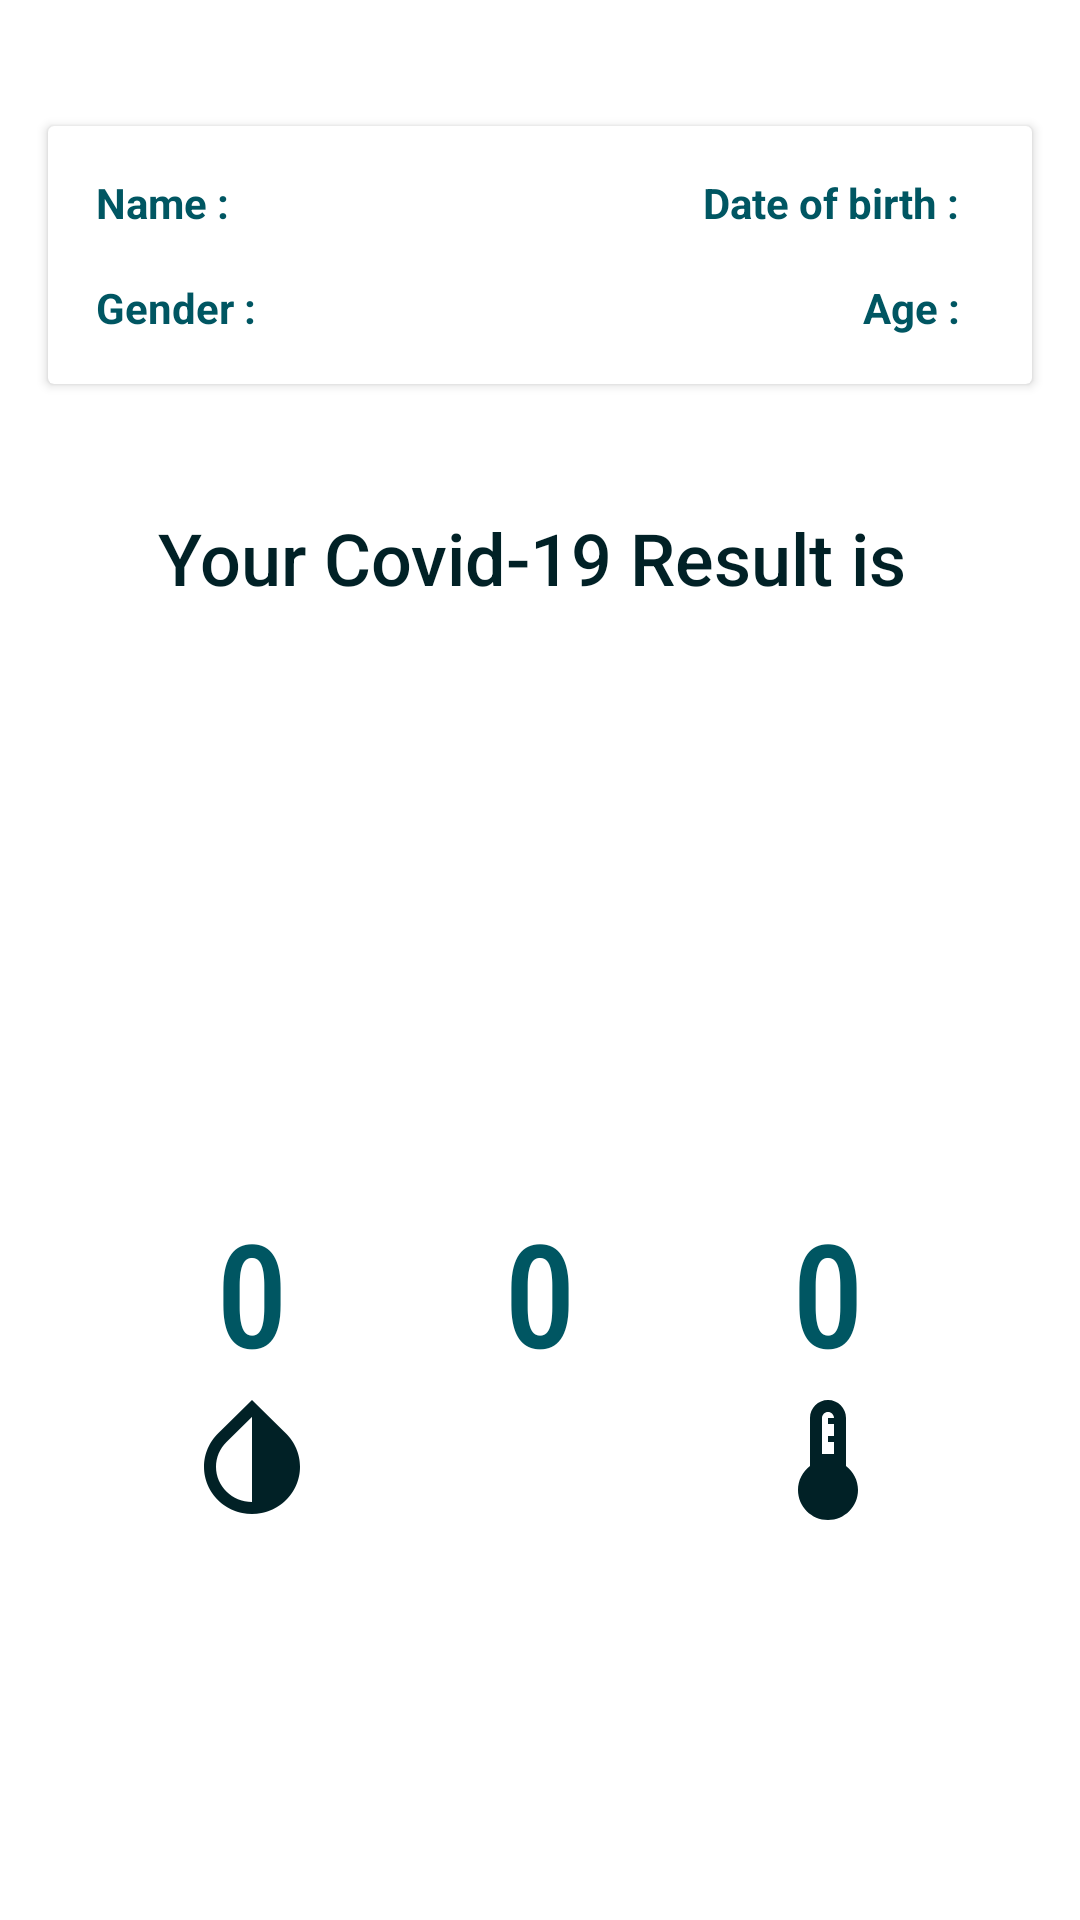

Icon bounding boxes for this 1080w x 1920h phone screenshot, format [left=x1, top=y1, right=x2, bottom=y2]:
device thermostat: [left=798, top=1400, right=858, bottom=1520]
invert colors: [left=204, top=1400, right=300, bottom=1514]
